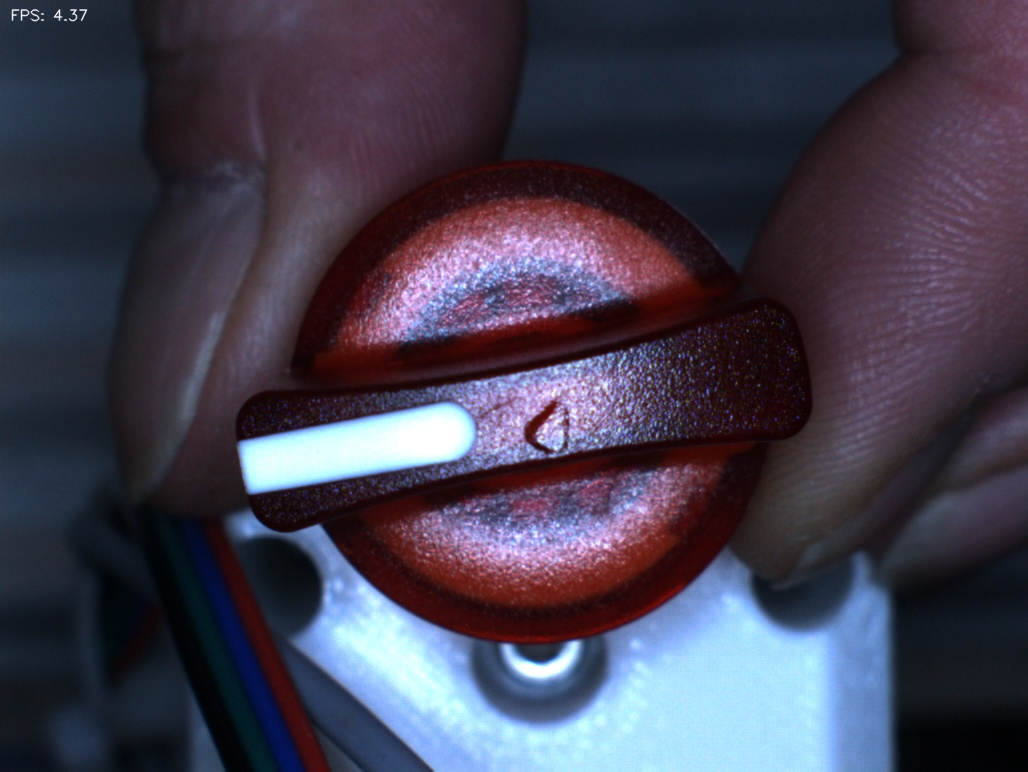Choc: (501, 385, 588, 472)
